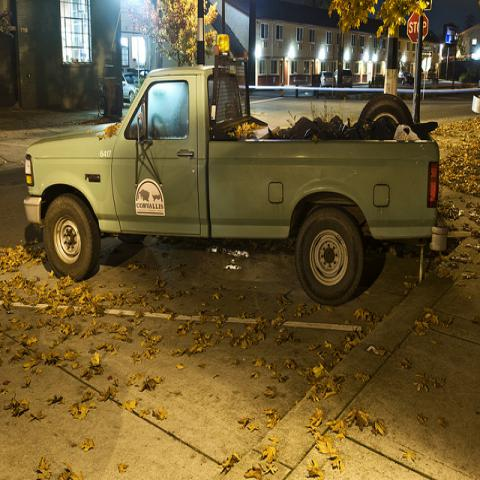car: (122, 72, 140, 103), (334, 69, 352, 89), (319, 71, 336, 88), (397, 72, 415, 86)
truck: (23, 46, 451, 308)
